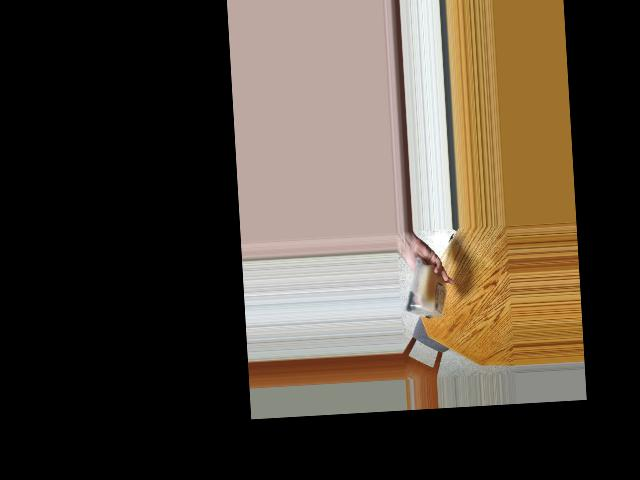cheese: (404, 261, 450, 321)
